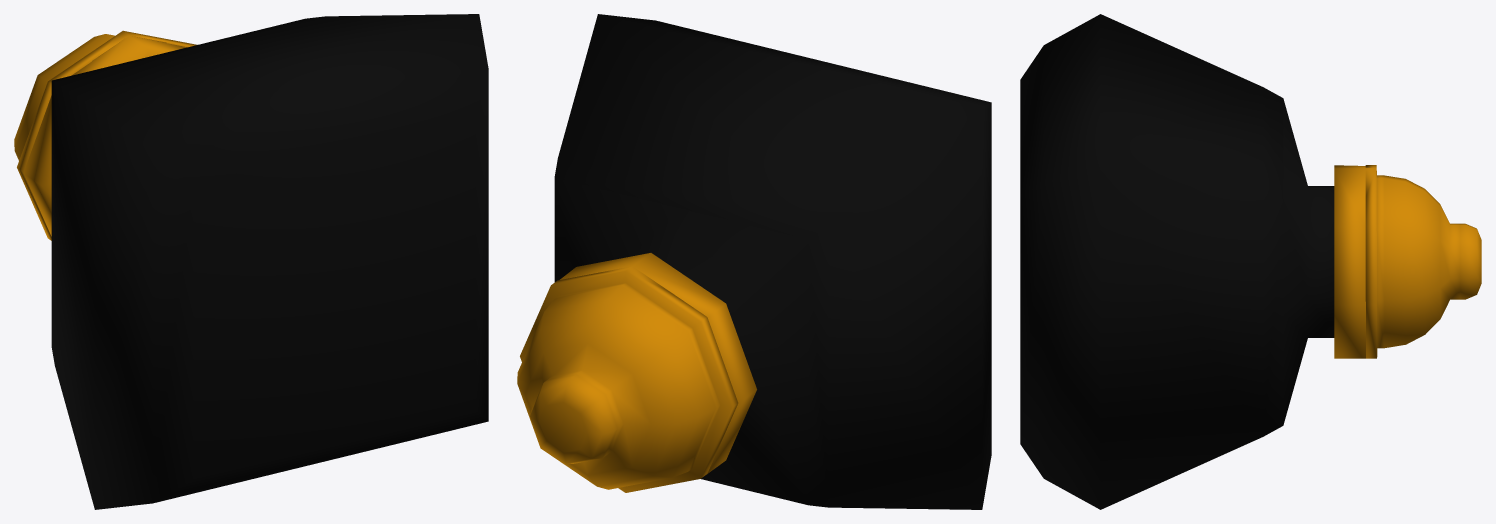
Rendered from tintero1.fbx.
The picture shows the model from 3 angles, left to right: view 1: azimuth 30°, elevation 25°; view 2: azimuth 150°, elevation 25°; view 3: azimuth 270°, elevation 25°; orthographic projection. The views are drawn at different scales.
Parts seen in each view (by area): view 1: group_0, ID12; view 2: group_0, ID12; view 3: group_0, ID12.
Part boxes in pixels (bbox=[...]): group_0: bbox=[51, 14, 488, 509]; ID12: bbox=[14, 30, 197, 240]; group_0: bbox=[554, 14, 991, 509]; ID12: bbox=[517, 253, 756, 492]; group_0: bbox=[1020, 14, 1334, 509]; ID12: bbox=[1334, 165, 1481, 358].
Bounding box in the file's own units: 4944 × 6113 × 4944.
